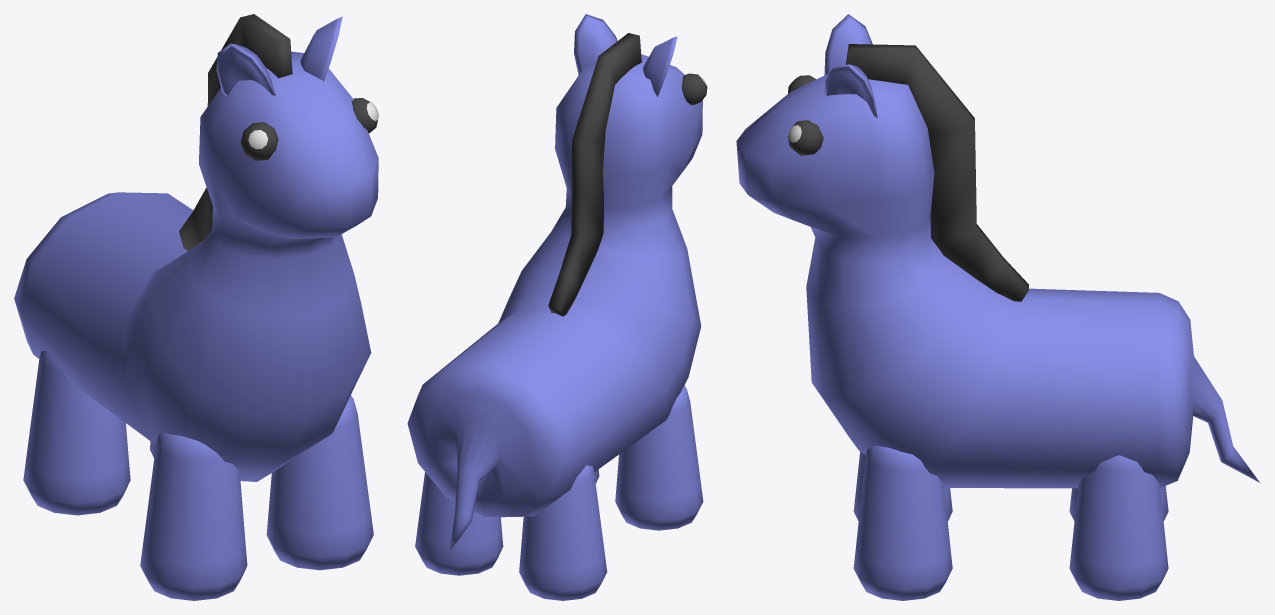
3 renders of one model, left to right at view 1: azimuth 30°, elevation 25°; view 2: azimuth 150°, elevation 25°; view 3: azimuth 270°, elevation 25°, orthographic. The views are drawn at different scales.
Parts seen in each view (by area): view 1: 45; view 2: 45; view 3: 45.
Part boxes in pixels (x1,y1,x2,y2): 45: (14, 14, 378, 600); 45: (407, 14, 707, 600); 45: (736, 14, 1259, 600).
Bounding box in the file's own units: 173 × 420 × 387.
